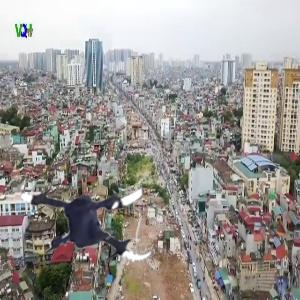drone: (20, 139, 170, 289)
